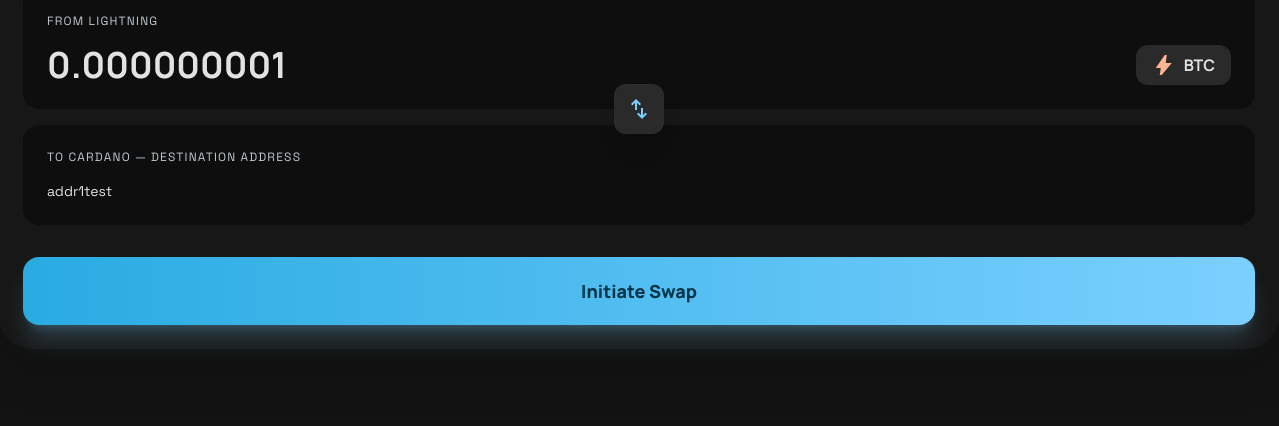
SwapCard — validation › rejects amounts below one cBTC base unit instead of rounding them
The width and height of the screenshot is (1279, 426).
Click the button "Initiate Swap" at [639, 291], box [23,257,1255,325]
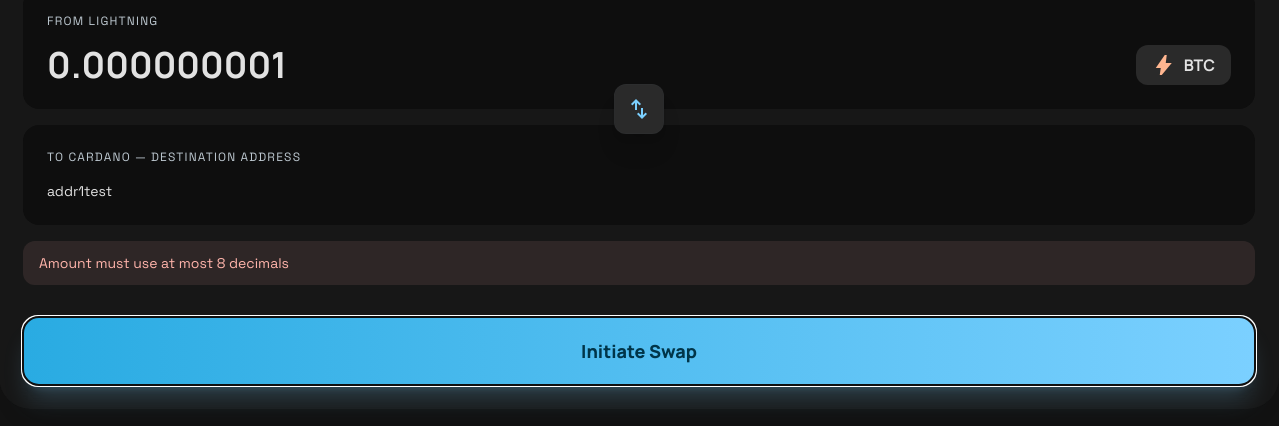
Check: the text "Amount must use at most 8 decimals" is shown, box [23,241,1255,285]
